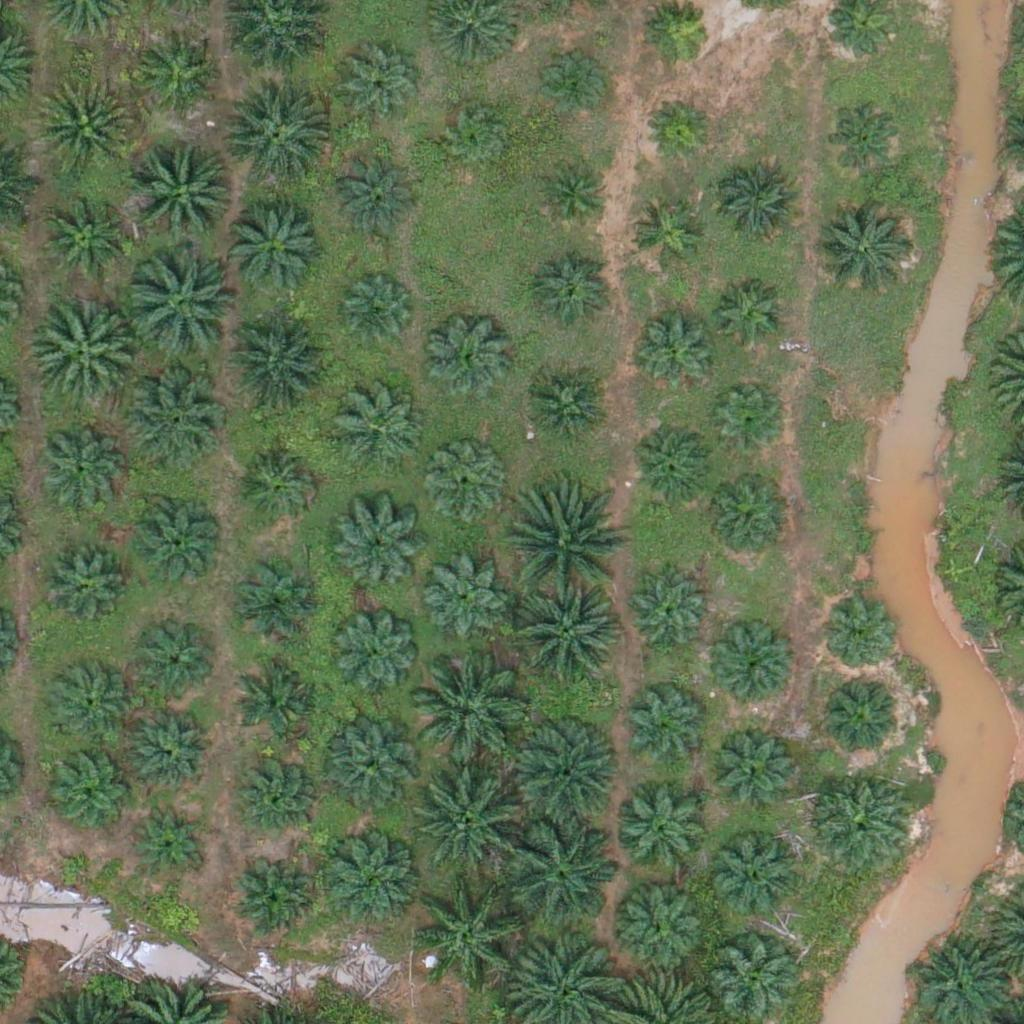Kelapa_Sawit: (503, 713, 616, 827), (510, 490, 623, 603), (507, 811, 620, 924), (215, 315, 328, 428), (124, 252, 237, 365), (130, 137, 242, 251), (508, 583, 620, 696), (415, 877, 527, 990), (415, 768, 527, 881), (411, 656, 523, 769), (24, 296, 136, 409), (217, 80, 329, 193), (813, 200, 913, 301), (811, 769, 911, 870), (703, 830, 803, 931), (320, 723, 420, 824), (224, 202, 324, 303), (121, 369, 221, 470), (33, 77, 133, 178), (613, 876, 713, 976), (617, 780, 717, 880), (319, 829, 419, 929), (630, 306, 718, 395), (822, 94, 910, 183), (528, 250, 616, 338), (516, 366, 604, 454), (700, 473, 788, 561), (623, 683, 711, 771), (332, 509, 420, 597), (332, 610, 420, 698), (34, 540, 122, 628), (132, 495, 220, 583), (231, 858, 319, 946), (233, 441, 321, 529), (422, 442, 510, 530), (40, 198, 128, 286), (138, 22, 226, 110), (331, 155, 419, 243), (338, 37, 426, 125), (716, 159, 804, 247), (629, 421, 716, 509), (622, 569, 709, 657), (711, 626, 798, 714), (818, 672, 905, 760), (707, 721, 794, 809), (49, 744, 136, 832), (45, 659, 132, 747), (36, 423, 123, 511), (130, 620, 217, 708), (131, 704, 218, 792), (229, 748, 316, 836), (237, 651, 324, 739), (229, 554, 316, 642), (424, 313, 511, 401), (421, 555, 508, 643), (335, 386, 422, 474), (339, 276, 414, 352), (537, 47, 612, 123), (712, 386, 787, 462), (132, 801, 207, 877), (821, 599, 896, 675), (535, 159, 610, 235), (627, 197, 702, 272), (441, 102, 516, 177), (715, 281, 790, 356), (642, 93, 717, 168)
